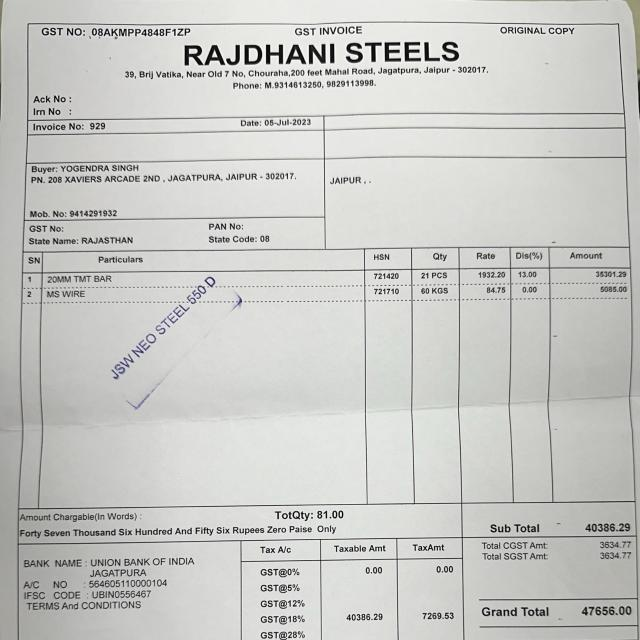paragraph: (478, 521, 638, 628), (23, 551, 203, 612), (18, 509, 369, 539), (122, 66, 491, 89), (177, 41, 459, 65), (28, 221, 278, 246), (28, 163, 298, 185), (39, 26, 198, 39), (26, 204, 120, 220), (30, 90, 82, 118), (497, 24, 583, 39), (238, 117, 314, 131), (30, 123, 111, 132), (329, 173, 373, 188), (293, 27, 365, 36)
table: (21, 246, 634, 501), (242, 540, 464, 640)
